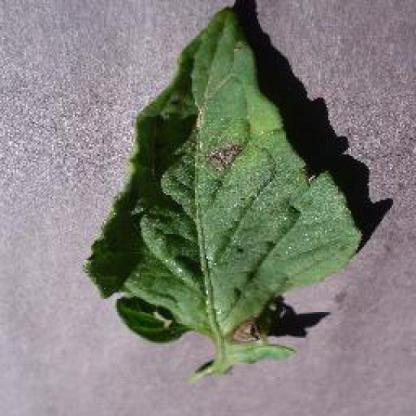Tomato_Blight: (82, 6, 363, 348)
